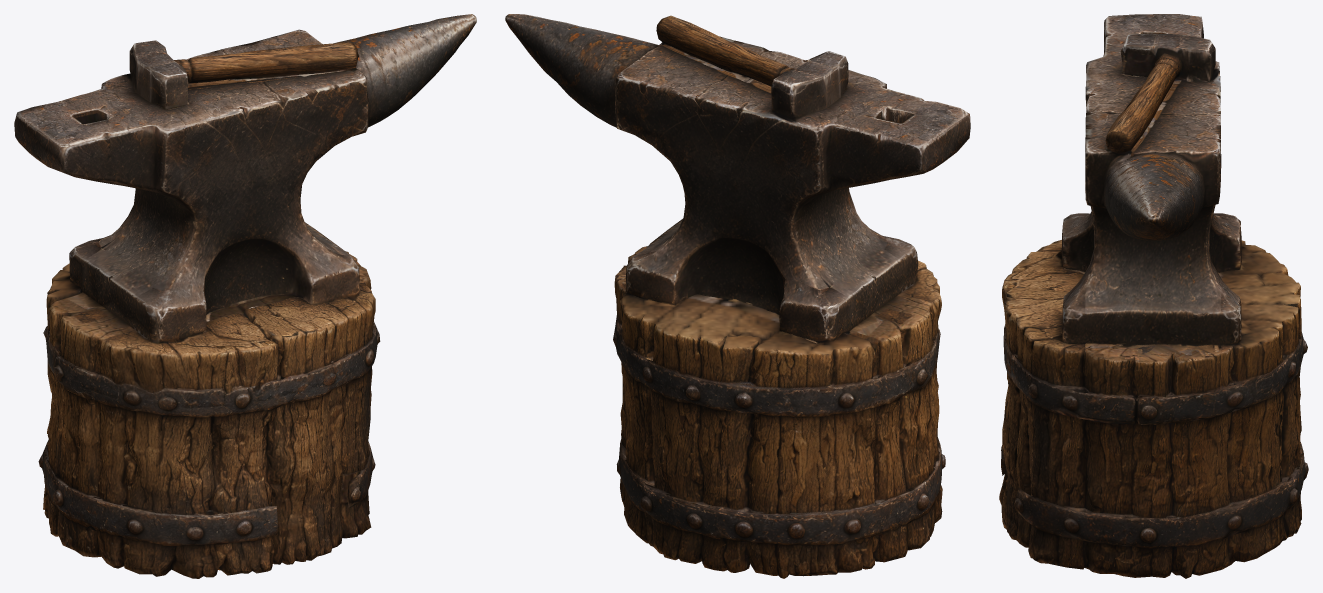
File: Anvil.fbx
3 views of the same model, side by side, from view 1: azimuth 30°, elevation 25°; view 2: azimuth 150°, elevation 25°; view 3: azimuth 270°, elevation 25° (orthographic).
Visible parts, largest first — view 1: texture_mapping; view 2: texture_mapping; view 3: texture_mapping.
Part boxes in pixels (x1=…): texture_mapping: x1=14, y1=14, x2=476, y2=578; texture_mapping: x1=505, y1=14, x2=970, y2=578; texture_mapping: x1=999, y1=14, x2=1308, y2=578.
Size of the model in its own units: 100 by 100 by 61.86.
Materials: 1 (1 with a texture image).
